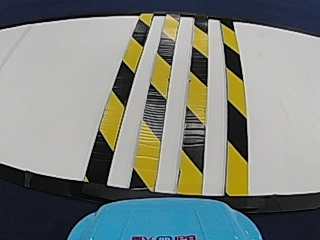bump: (82, 17, 255, 191)
